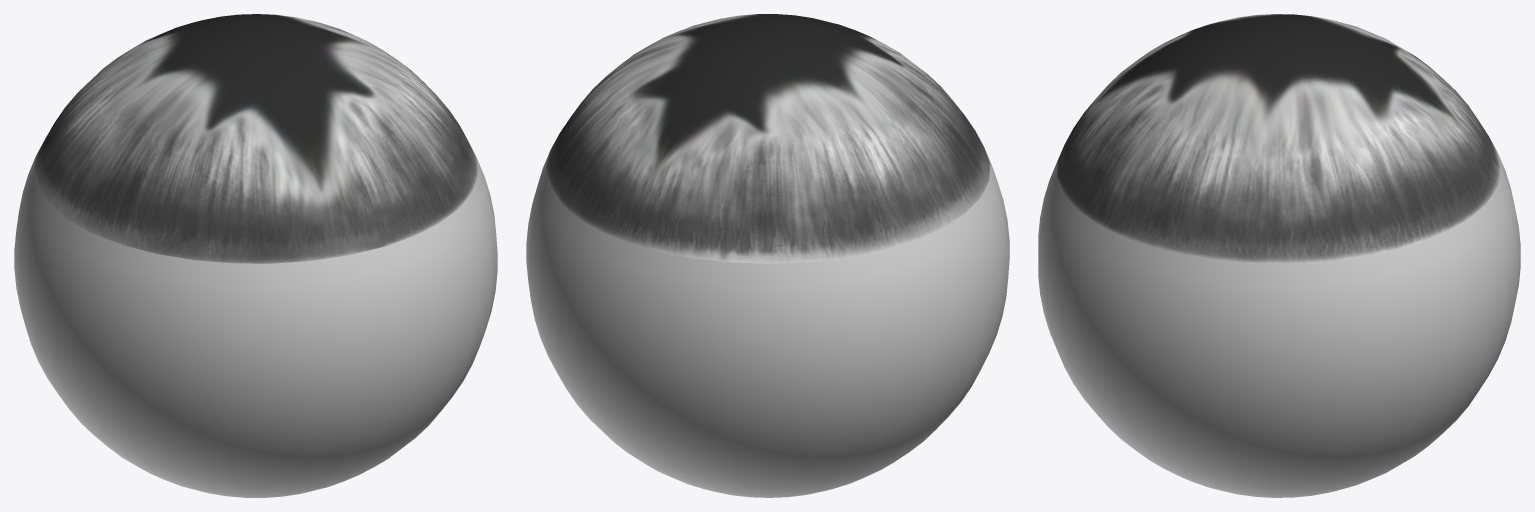
The model's file is NewEye.fbx.
3 renders of one model, left to right at view 1: azimuth 30°, elevation 25°; view 2: azimuth 150°, elevation 25°; view 3: azimuth 270°, elevation 25°, orthographic.
Parts seen in each view (by area): view 1: Sphere, Sphere.001; view 2: Sphere, Sphere.001; view 3: Sphere, Sphere.001.
Part boxes in pixels (bbox=[...]): Sphere: bbox=[14, 156, 497, 497]; Sphere.001: bbox=[33, 14, 478, 263]; Sphere: bbox=[526, 150, 1009, 497]; Sphere.001: bbox=[545, 14, 990, 263]; Sphere: bbox=[1038, 154, 1520, 497]; Sphere.001: bbox=[1057, 14, 1501, 263].
Bounding box in the file's own units: 200 × 200 × 199.
